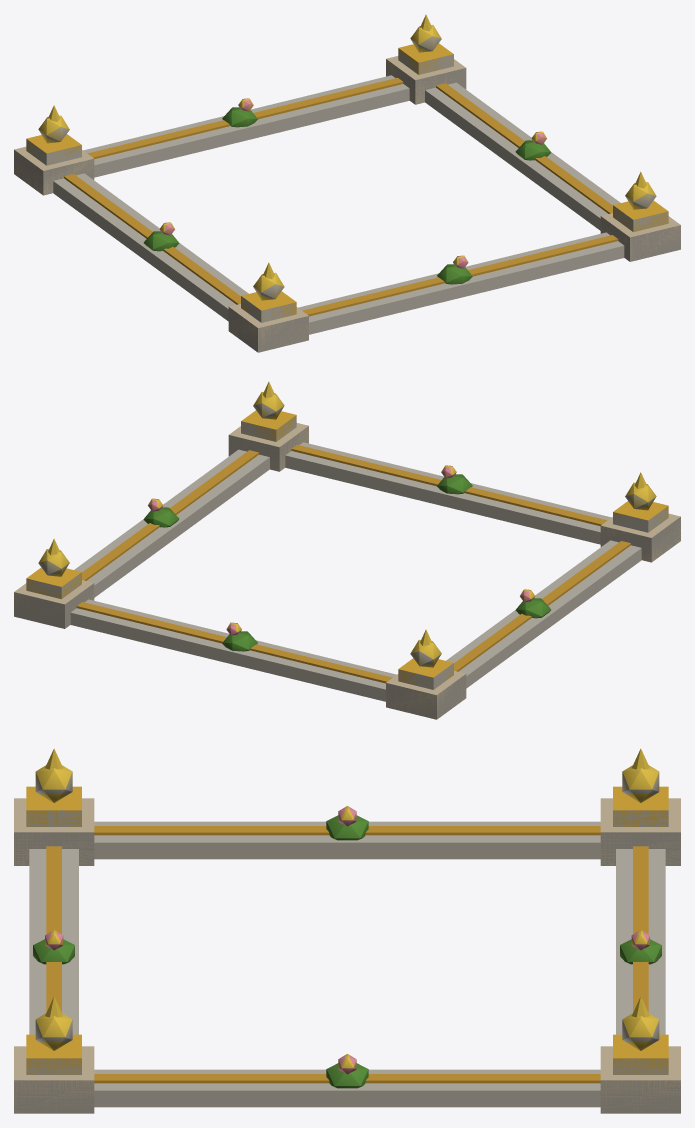
Rendered from masterwork.glb.
3 views of the same model, one above another, from view 1: azimuth 30°, elevation 25°; view 2: azimuth 150°, elevation 25°; view 3: azimuth 270°, elevation 25° (orthographic). The views are drawn at different scales.
Visible parts, largest first — view 1: prop-masterwork_2, prop-masterwork_1; view 2: prop-masterwork_2, prop-masterwork_1; view 3: prop-masterwork_2, prop-masterwork_1.
Boxes of the visible parts, x1,y1,x2,y2 form: prop-masterwork_2: (14,14,680,351); prop-masterwork_1: (14,36,680,352); prop-masterwork_2: (14,381,680,718); prop-masterwork_1: (14,403,680,719); prop-masterwork_2: (14,748,680,1113); prop-masterwork_1: (14,772,680,1113).
Bounding box in the file's own units: 2.16 × 0.36 × 2.16.
